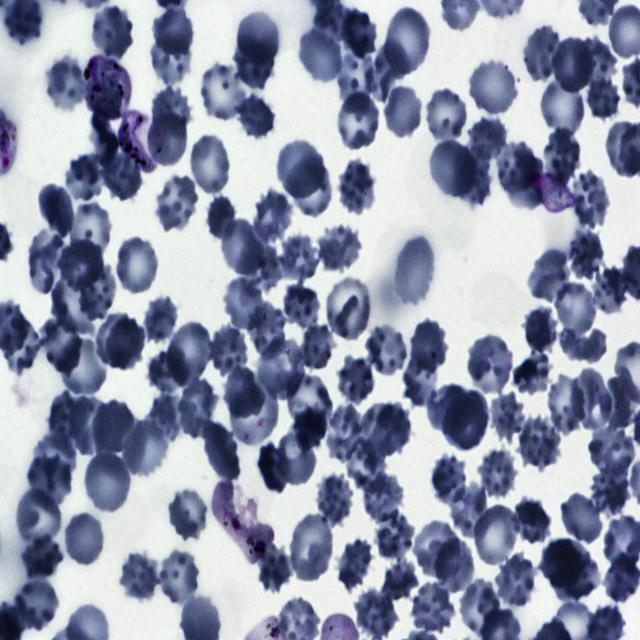red blood cell: (382, 5, 433, 77), (286, 513, 337, 584), (471, 503, 521, 569), (538, 73, 588, 139), (255, 335, 305, 400), (166, 320, 214, 386), (465, 333, 515, 396), (428, 138, 478, 201), (112, 234, 162, 296), (122, 416, 170, 480), (392, 233, 435, 304), (229, 382, 277, 445), (278, 140, 326, 201), (442, 390, 490, 451), (467, 60, 518, 117), (325, 277, 371, 340), (412, 518, 461, 577), (59, 338, 108, 396), (422, 87, 470, 146), (39, 313, 85, 374), (220, 216, 265, 278), (544, 373, 587, 437), (148, 29, 194, 88), (15, 488, 60, 548), (588, 423, 638, 477), (541, 538, 591, 592), (570, 367, 610, 433), (568, 169, 611, 230), (85, 454, 131, 511), (527, 248, 573, 305), (550, 37, 596, 94), (26, 230, 66, 295), (44, 55, 88, 114), (202, 62, 246, 121), (288, 372, 332, 431), (408, 582, 456, 636), (56, 239, 104, 293), (516, 414, 562, 470), (458, 580, 502, 638), (275, 428, 318, 487), (89, 4, 135, 59), (27, 454, 73, 509), (68, 395, 110, 455), (522, 24, 563, 85), (290, 157, 331, 218), (382, 83, 425, 141), (369, 40, 409, 102), (337, 91, 379, 150), (246, 303, 288, 362), (433, 538, 477, 594), (50, 278, 94, 334), (76, 262, 117, 322), (454, 142, 491, 208), (556, 278, 596, 339), (93, 398, 135, 456), (14, 576, 59, 630), (494, 555, 538, 610), (222, 277, 266, 332), (299, 26, 342, 82), (222, 366, 265, 422), (146, 394, 196, 442), (552, 552, 599, 603), (336, 160, 378, 217), (448, 482, 489, 540), (240, 240, 282, 296), (408, 320, 449, 377), (117, 550, 161, 603), (238, 11, 282, 64), (251, 190, 294, 244), (149, 86, 192, 140), (346, 436, 386, 494), (360, 403, 402, 458), (191, 135, 230, 194), (316, 222, 362, 272), (99, 149, 145, 199), (70, 202, 111, 258), (353, 588, 397, 640), (338, 51, 376, 111), (365, 322, 407, 376), (156, 176, 198, 230), (428, 382, 470, 436), (542, 128, 583, 183), (95, 312, 139, 363), (35, 182, 75, 238), (234, 32, 274, 88), (560, 491, 602, 544), (179, 377, 218, 434), (208, 326, 249, 380), (104, 316, 145, 370), (50, 391, 84, 456), (339, 5, 379, 60), (372, 403, 412, 458), (278, 233, 321, 284), (372, 510, 415, 561), (148, 110, 187, 166), (476, 450, 521, 498), (574, 37, 618, 86), (64, 153, 105, 205), (203, 420, 239, 479), (566, 228, 606, 281), (146, 348, 190, 396), (19, 533, 63, 581), (512, 496, 552, 548), (161, 550, 198, 606), (589, 464, 630, 514), (590, 265, 630, 316), (328, 404, 363, 462), (508, 154, 543, 212), (429, 454, 468, 506), (150, 7, 192, 55), (142, 293, 180, 346), (364, 472, 403, 523), (497, 142, 536, 193), (586, 70, 622, 125), (466, 116, 509, 162), (34, 434, 77, 480), (255, 543, 292, 596), (336, 356, 376, 404), (280, 282, 320, 330), (403, 357, 442, 406), (522, 303, 557, 357), (66, 512, 103, 563), (170, 490, 207, 540), (312, 475, 351, 522), (236, 93, 276, 138), (604, 553, 640, 603), (512, 352, 554, 394), (338, 541, 372, 592), (296, 326, 334, 371), (487, 390, 524, 436), (293, 405, 328, 453), (257, 442, 289, 492), (382, 559, 421, 599), (206, 194, 238, 241)
trophozoite: (211, 480, 275, 564), (82, 54, 132, 121), (117, 107, 155, 176)
